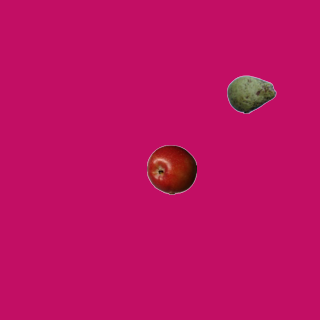Apple Braeburn: (146, 144, 196, 194)
Pear Stone: (226, 69, 276, 119)
